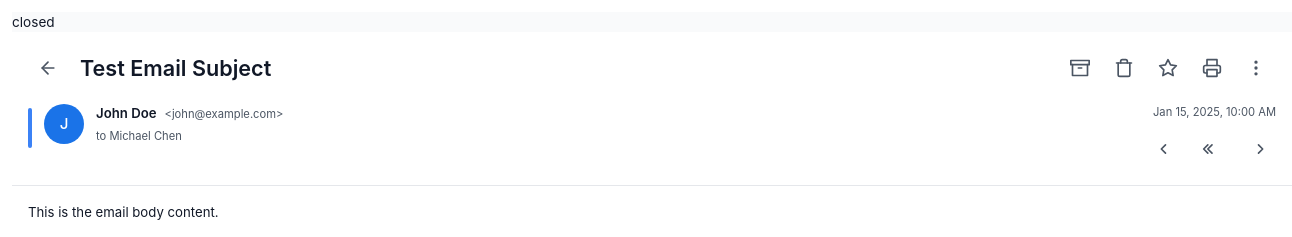
Test case: Email Reply Functionality › clicking Forward opens compose with mode=forward and forwardedFromId
What coordinates should you click on to do the following:
click the button named "forward"
I would click on:
 (1256, 149)
Its box is [1236,129,1276,169].
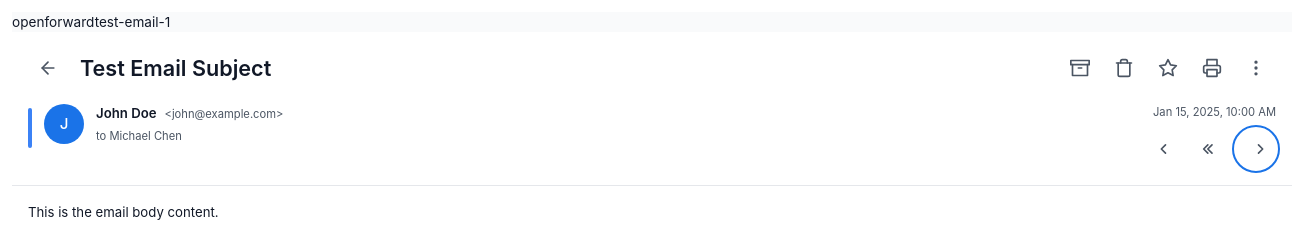
Check: the text with test id "compose-state" reads "open", box [12,14,44,30]
Check: the text with test id "compose-mode" reads "forward", box [44,14,95,30]
Check: the text with test id "compose-fwd-from" reads "test-email-1", box [95,14,170,30]
